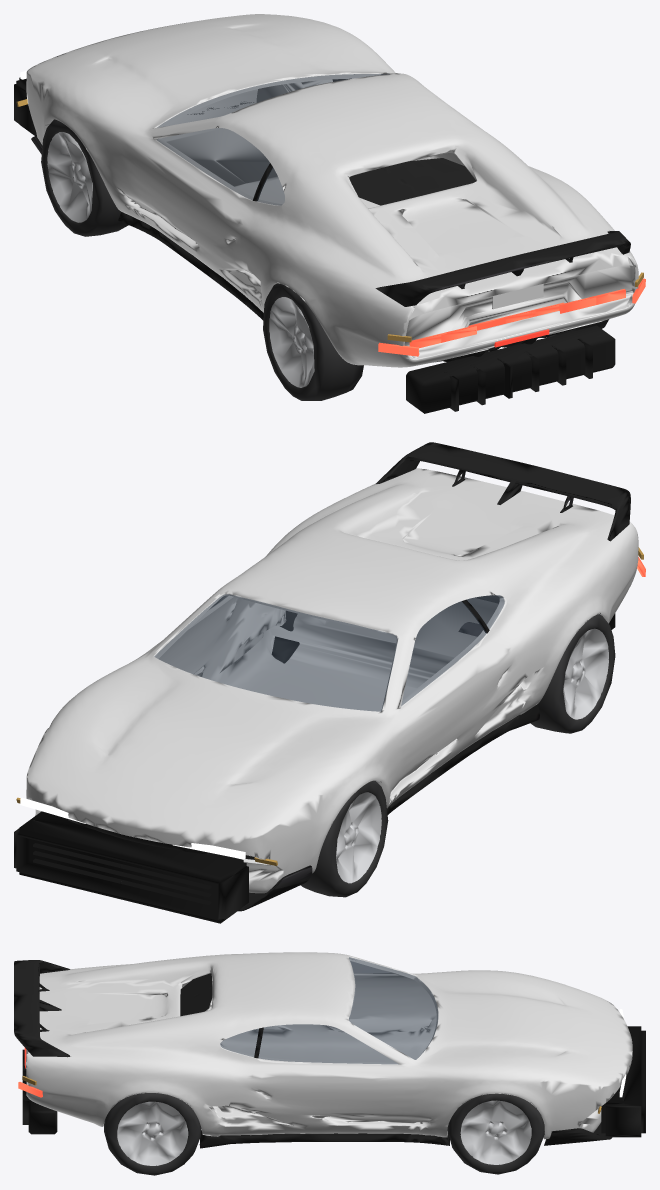
The model's file is auto_cyber_lod1.glb.
The picture shows the model from 3 angles, top to bottom: view 1: azimuth 30°, elevation 25°; view 2: azimuth 150°, elevation 25°; view 3: azimuth 270°, elevation 25°; orthographic projection. The views are drawn at different scales.
Visible parts, largest first — view 1: Karosserie, Rad_HL, Rad_VL, licht_hinten, Kennzeichen; view 2: Karosserie, Rad_HL, Rad_VL; view 3: Karosserie, Rad_HR, Rad_VR.
Boxes of the visible parts, x1,y1,x2,y2 form: Karosserie: [14, 14, 638, 413]; Rad_HL: [263, 283, 363, 400]; Rad_VL: [41, 119, 128, 236]; licht_hinten: [378, 278, 645, 356]; Kennzeichen: [492, 283, 543, 309]; Karosserie: [14, 442, 638, 923]; Rad_HL: [530, 614, 615, 733]; Rad_VL: [300, 780, 388, 897]; Karosserie: [14, 952, 645, 1148]; Rad_HR: [104, 1093, 201, 1175]; Rad_VR: [447, 1093, 544, 1174].
Size of the model in its own units: 2.01 by 1.19 by 4.8.
10 materials, 1 textured.
